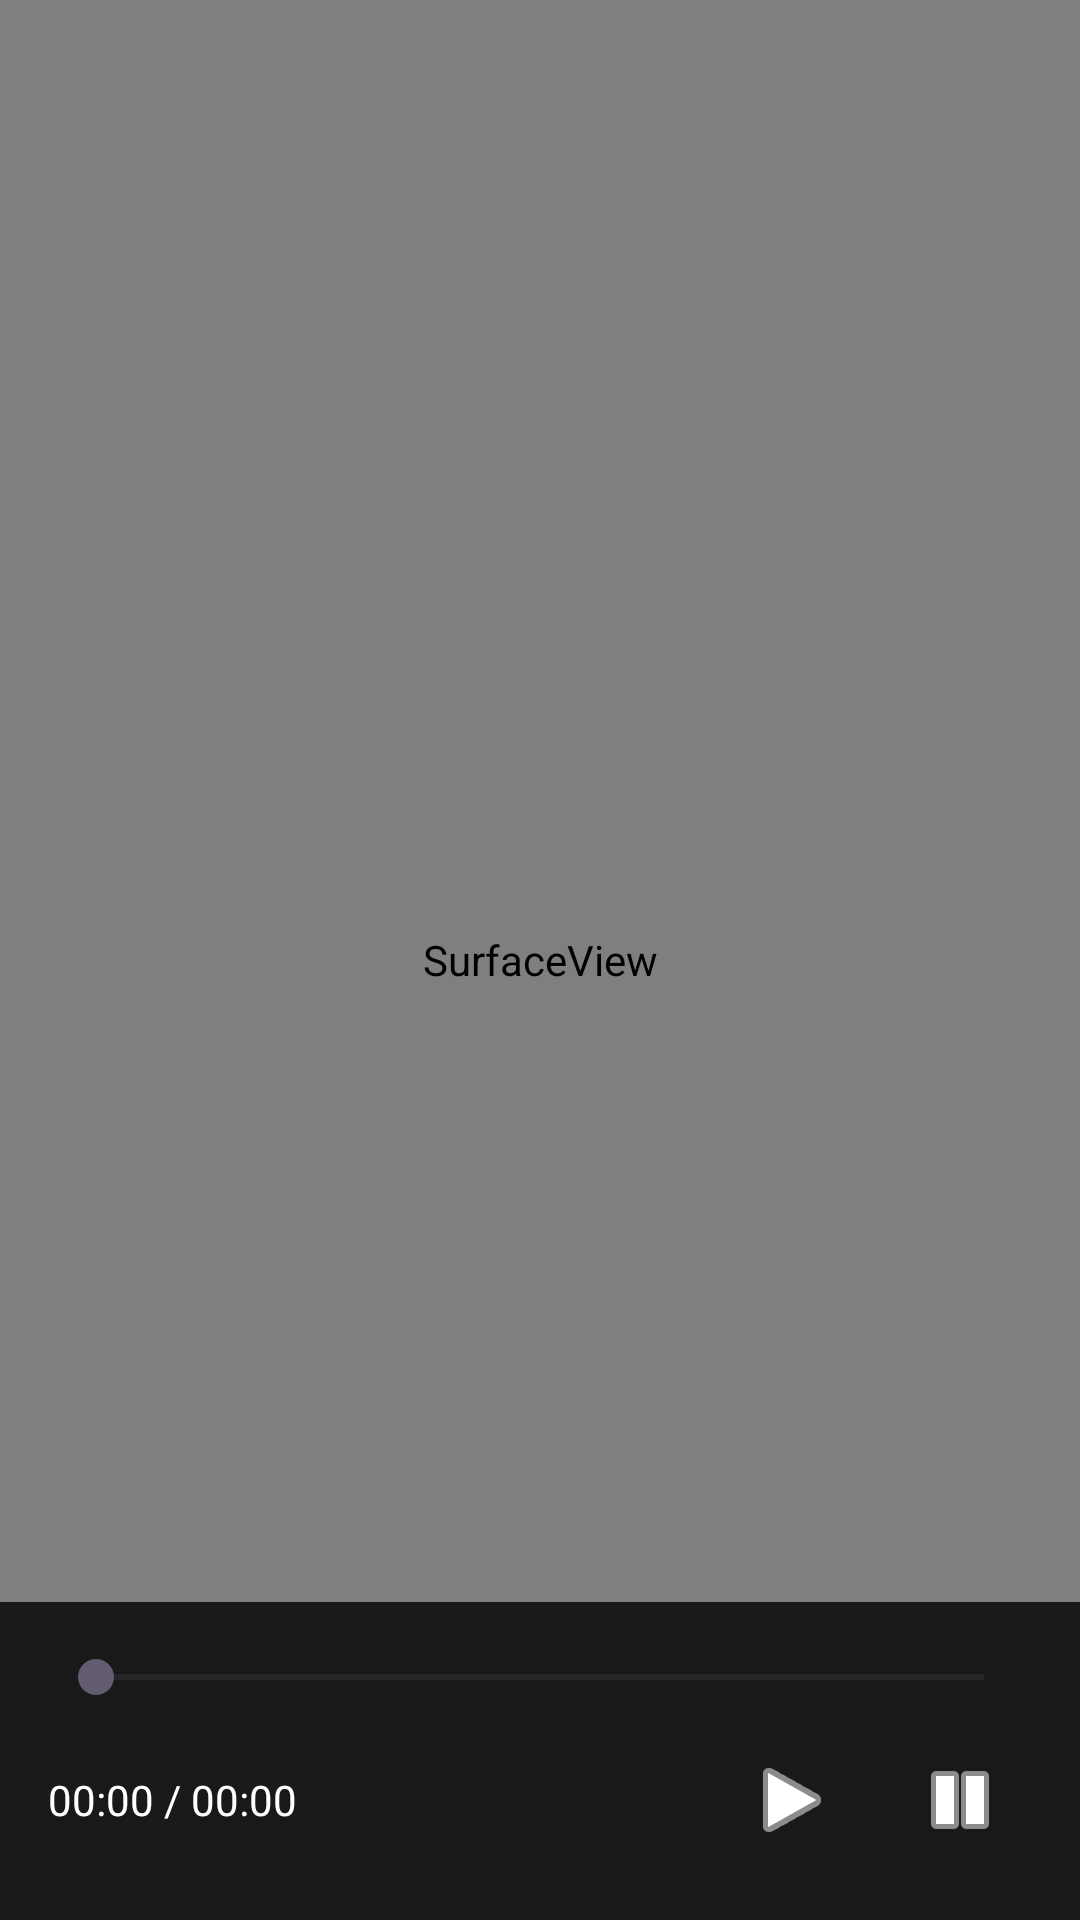

Where to tap for icons on this 1080 x 1920 app screen, as (x=x, y=y):
播放: (x=792, y=1800)
